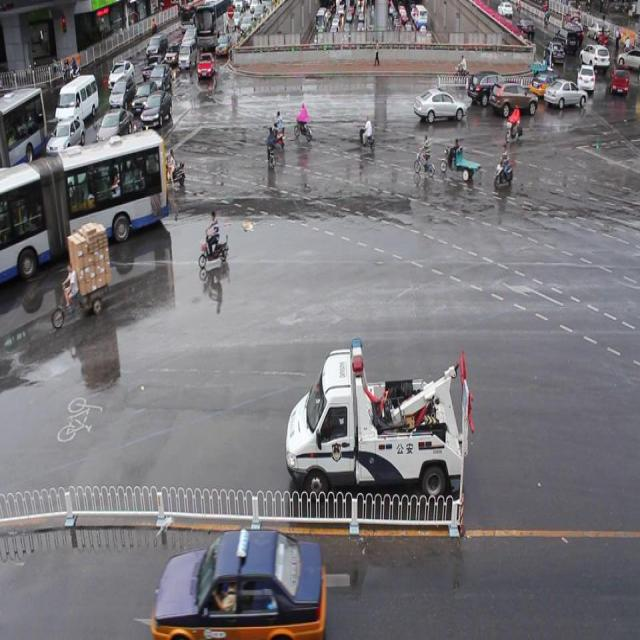bus: (285, 338, 464, 498)
car: (412, 88, 467, 121), (488, 79, 537, 115), (466, 71, 512, 104), (542, 78, 586, 110), (528, 70, 566, 96)
